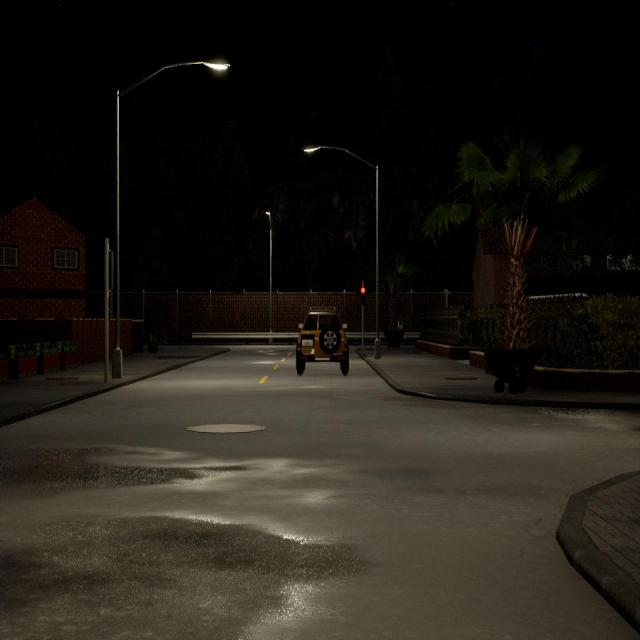Vehicle: (296, 307, 348, 375)
traffic_light: (105, 252, 115, 291), (359, 284, 366, 305)
